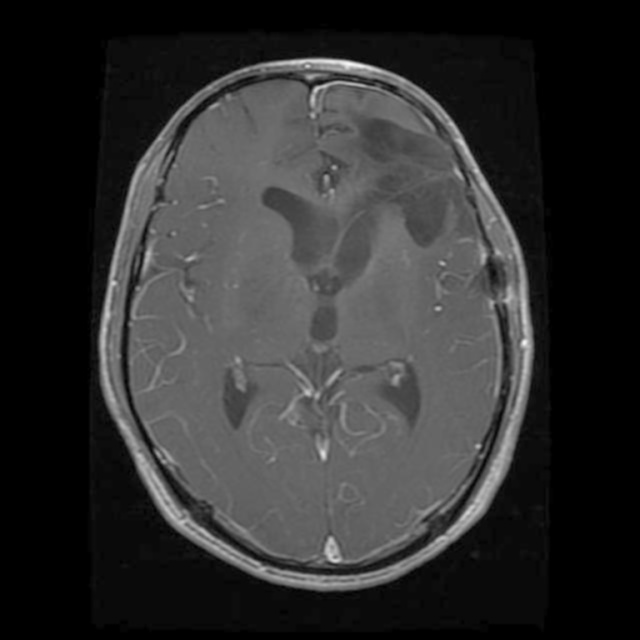pituitary tumor: (366, 134, 464, 238)
